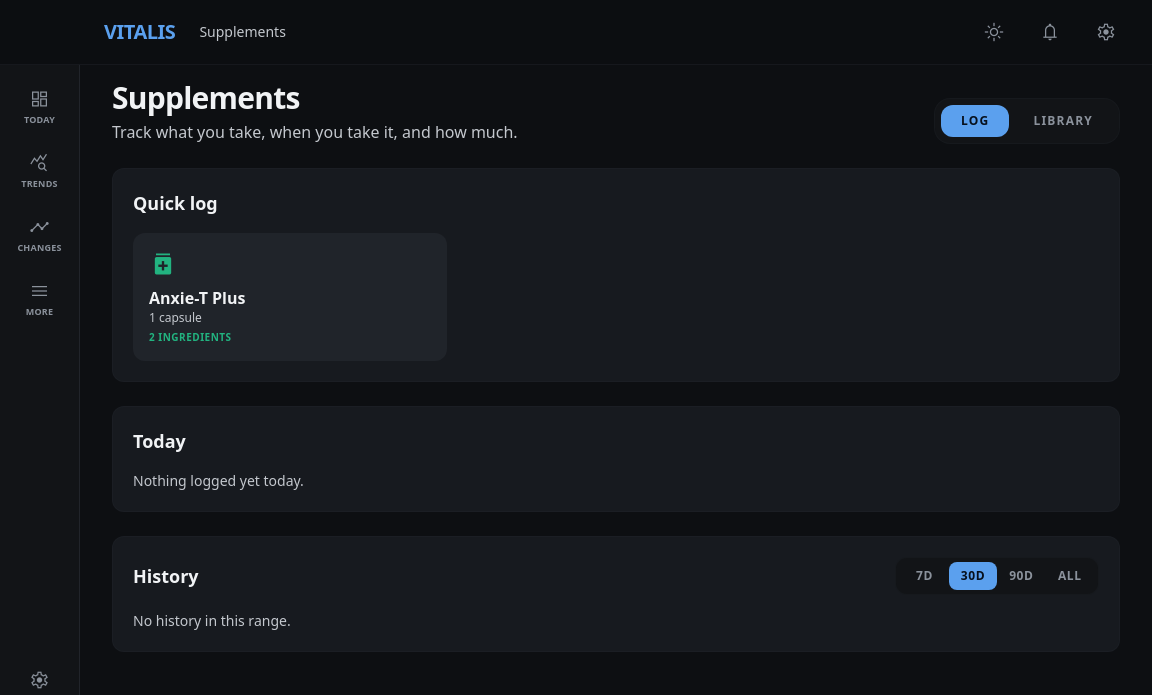
Scenario: Supplements page › shows the 'Will also log' preview with scaled ingredient breakdown when item has composition
Click the button "Anxie-T Plus 1 capsule 2 ingredients" at (197, 298), box [133,233,447,361]
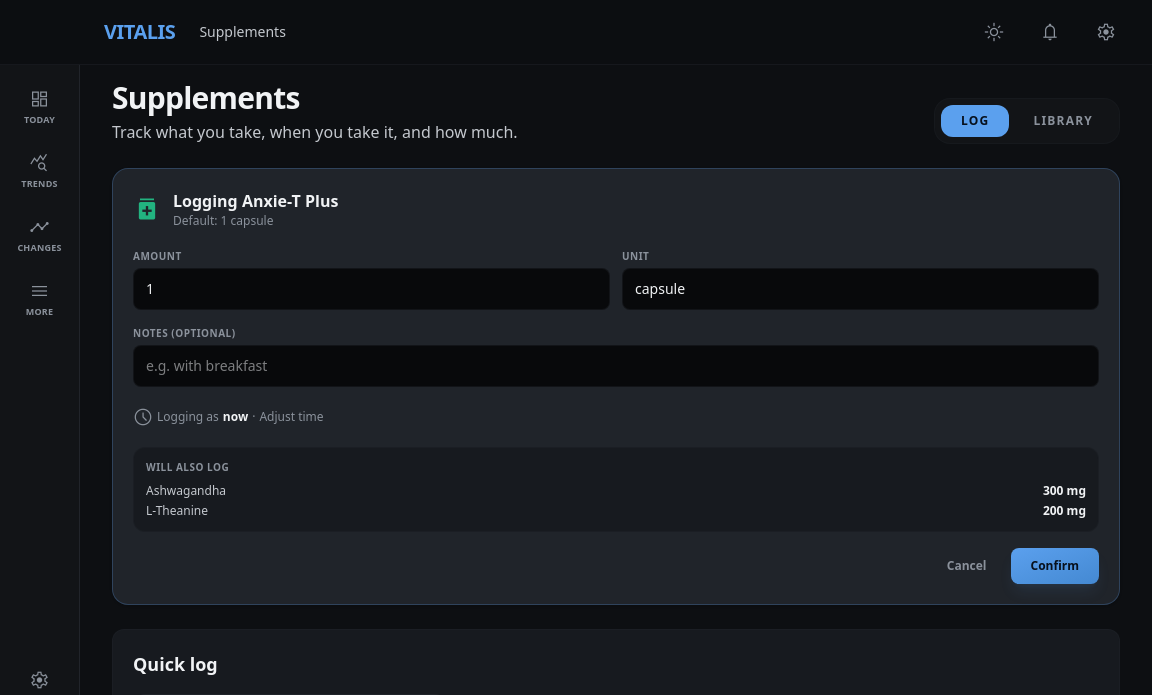
Now the heading "Logging Anxie-T Plus" is shown, box [173,189,338,213]
Now the text "Will also log" is shown, box [146,460,229,474]
Now the text "Ashwagandha" is shown, box [146,483,226,499]
Note: Now bump amount to 2 capsules — preview should rescale to 600 mg / 400 mg.
Replace the text in the number field labelled "Amount" with "2" at (372, 289), box [133,268,610,310]
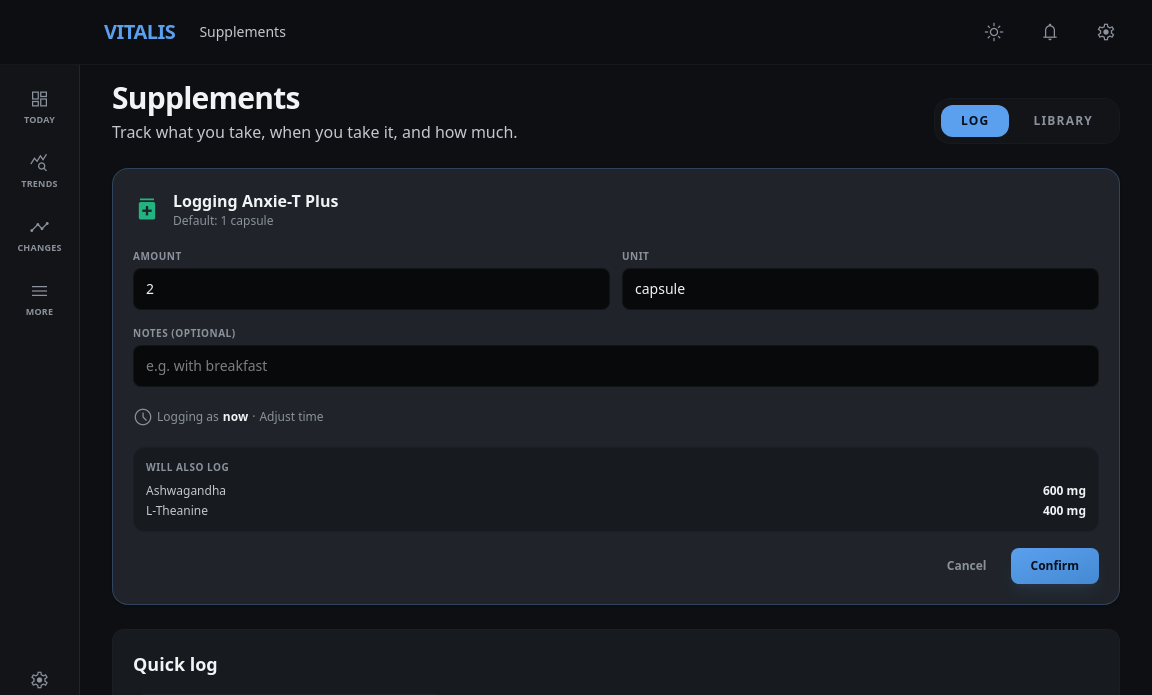
Now the text "600 mg" is shown, box [1043,483,1086,499]
Now the text "400 mg" is shown, box [1043,503,1086,519]
